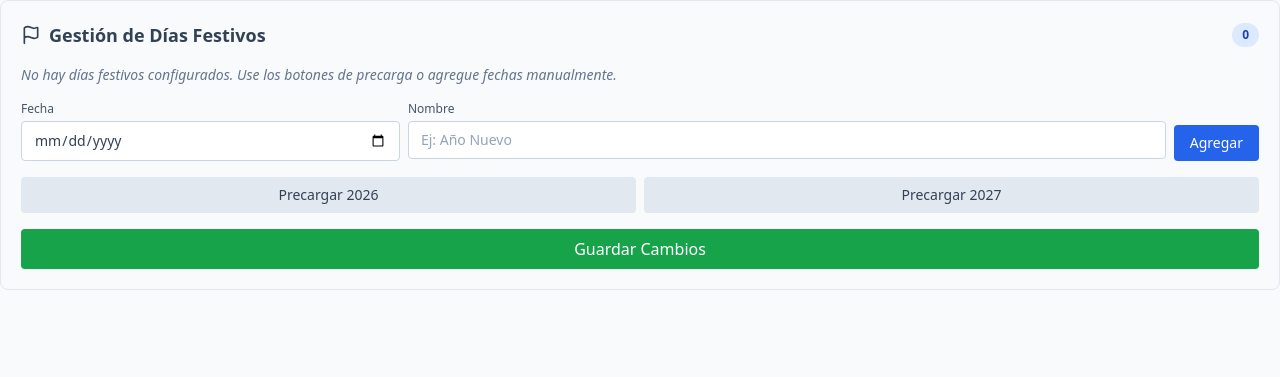
Test: HolidayManager › saves holidays through the API and shows success feedback
The image size is (1280, 377).
Check: the text "No hay días festivos configurados" is shown, box [21, 65, 617, 84]
In the date field labelled "Fecha": x=210, y=141 [21, 121, 400, 161], type "2026-12-08"
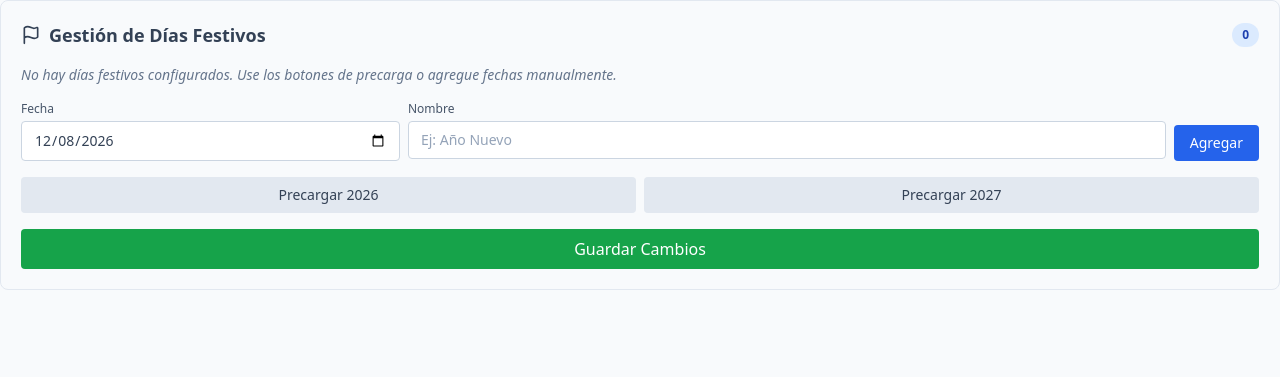
In the field labelled "Nombre": x=787, y=140 [408, 121, 1166, 159], type "Inmaculada Concepción"
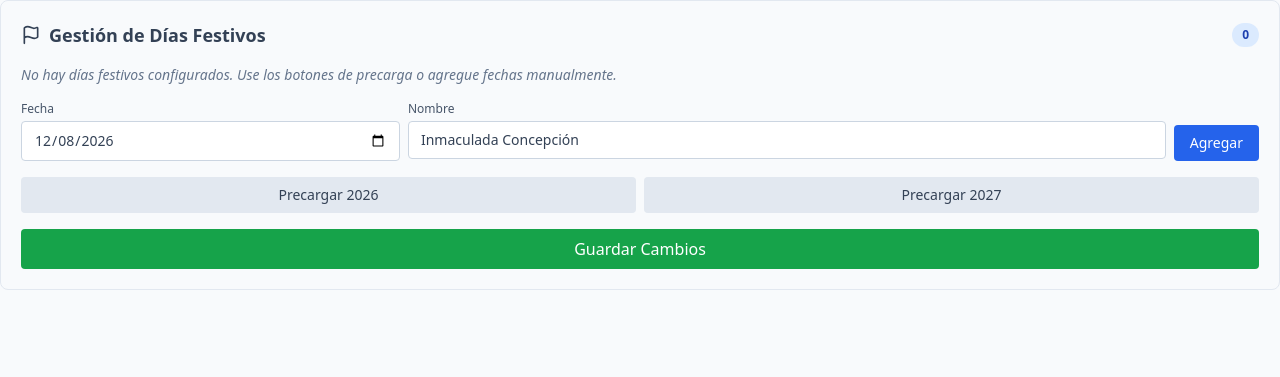
Click the button "Agregar": x=1216, y=143 [1174, 125, 1259, 161]
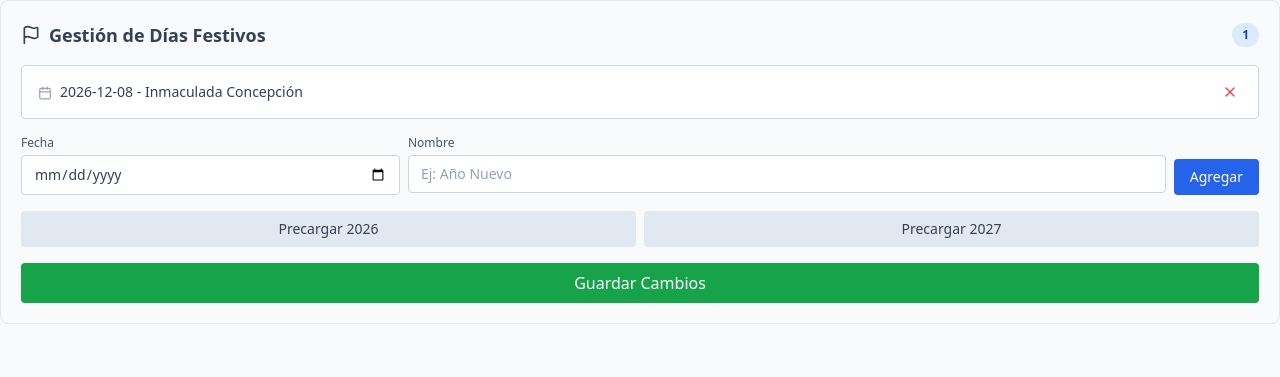
Check: the text "2026-12-08 - Inmaculada Concepción" is shown, box [38, 82, 303, 102]
Click the button "Guardar Cambios": x=640, y=283 [21, 263, 1259, 303]
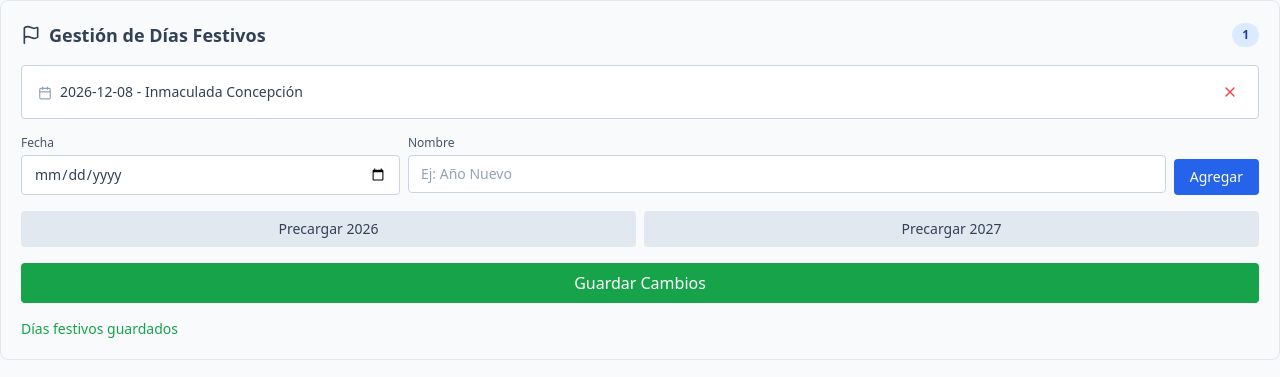
Check: the text "Días festivos guardados" is shown, box [21, 319, 178, 338]
